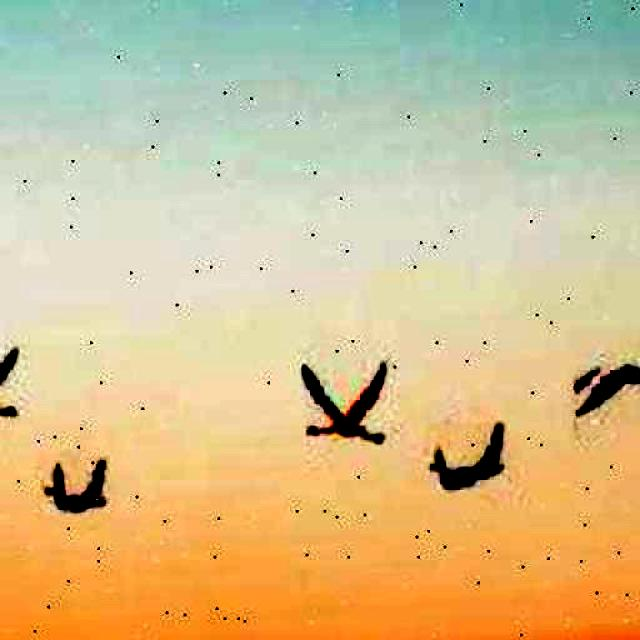airplane: (301, 354, 391, 450), (426, 420, 508, 494), (572, 360, 640, 434), (41, 455, 111, 515), (0, 345, 24, 429)
